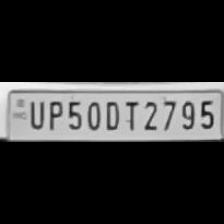0: (83, 97, 101, 130)
2: (140, 97, 158, 130)
5: (198, 96, 216, 130), (64, 97, 82, 130)
7: (158, 97, 176, 130)
9: (177, 98, 195, 130)
D: (102, 97, 120, 130)
P: (44, 97, 64, 130)
T: (122, 98, 139, 132)
U: (24, 98, 44, 130)
